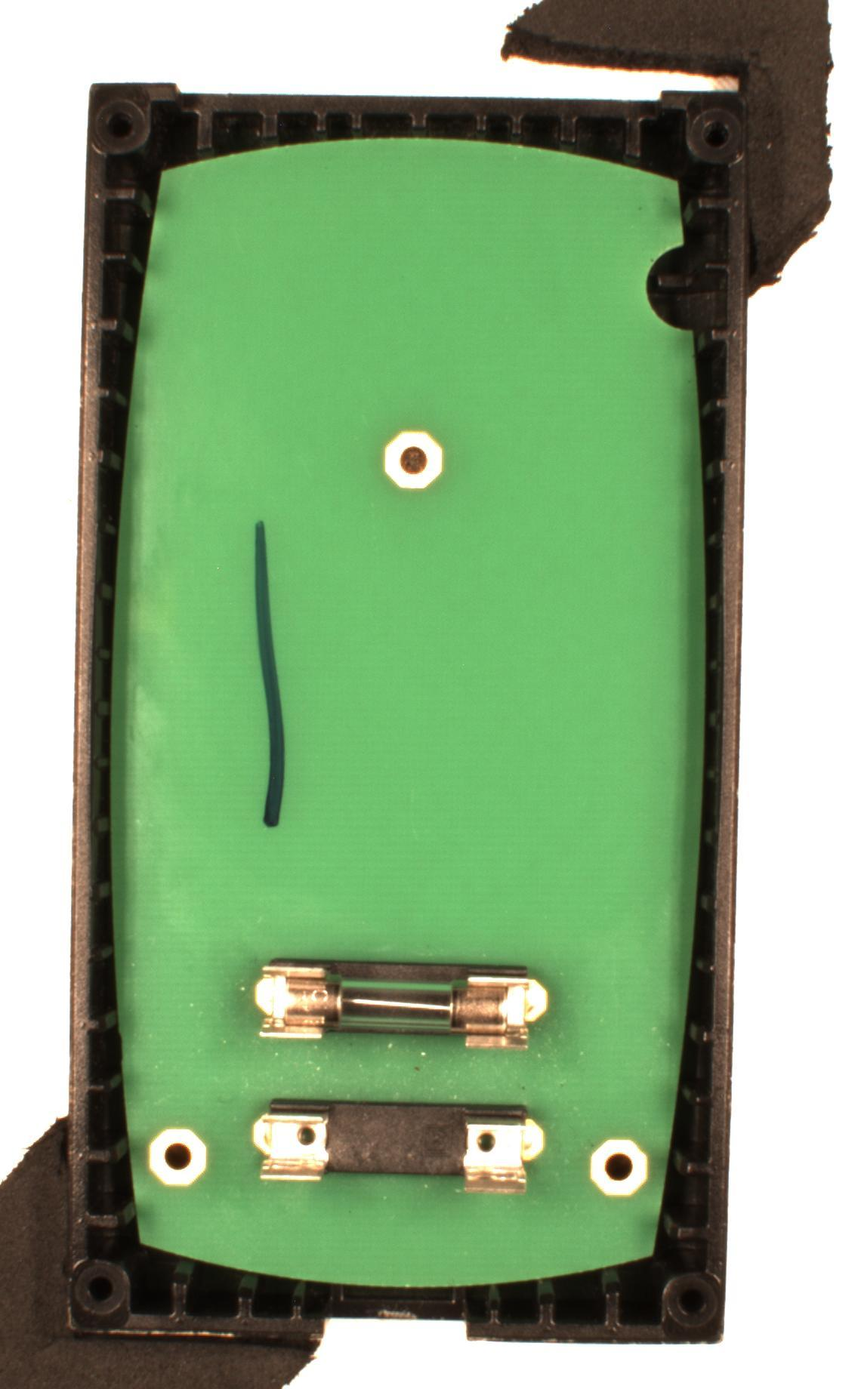Linijsko Ostecene: (247, 520, 290, 831)
Nepostojanje osiguraca: (249, 1095, 548, 1198)
